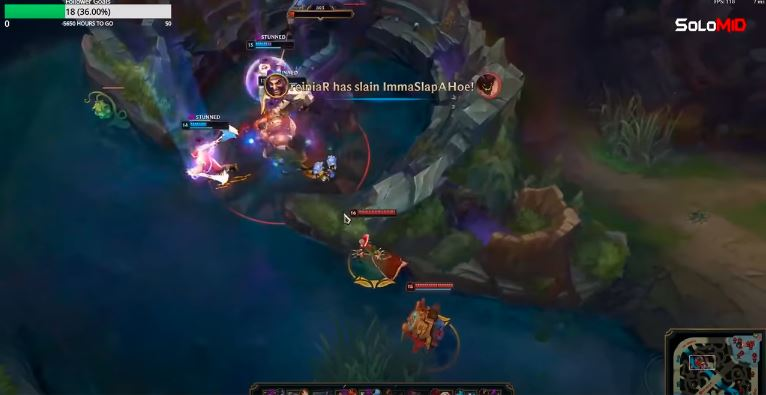bar: (403, 279, 456, 293), (243, 38, 297, 51), (258, 74, 308, 88), (180, 117, 232, 130), (346, 207, 400, 218)
